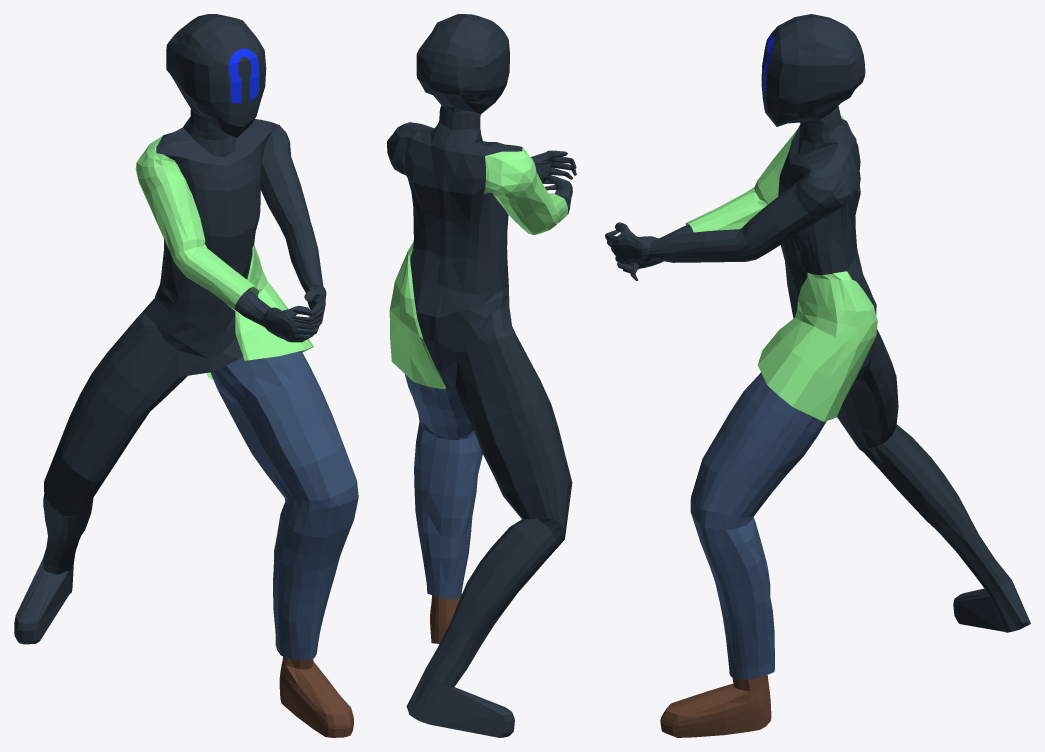
Rendered from Mar_WR_000007.obj.
The picture shows the model from 3 angles, left to right: view 1: azimuth 30°, elevation 25°; view 2: azimuth 150°, elevation 25°; view 3: azimuth 270°, elevation 25°; orthographic projection. The views are drawn at different scales.
Parts seen in each view (by area): view 1: Cube.000_Cube.001; view 2: Cube.000_Cube.001; view 3: Cube.000_Cube.001.
Boxes of the visible parts, x1,y1,x2,y2 form: Cube.000_Cube.001: [14, 14, 358, 737]; Cube.000_Cube.001: [387, 14, 576, 737]; Cube.000_Cube.001: [605, 14, 1030, 737].
Size of the model in its own units: 1.3 by 3.73 by 2.09.
